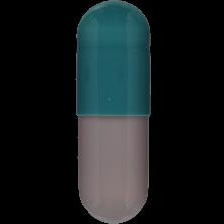66993-408: (0, 0, 224, 224)
